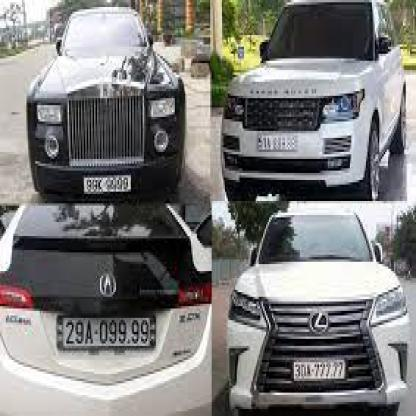biensoxe: (58, 317, 156, 354), (294, 360, 348, 384), (84, 173, 131, 197), (255, 130, 299, 155)
